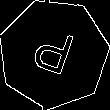P_S: (28, 24, 79, 84)
